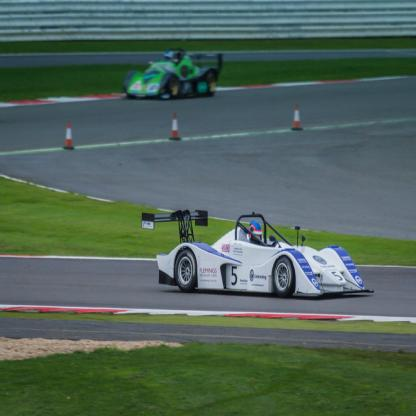Car: (143, 206, 376, 298), (121, 50, 224, 101)
